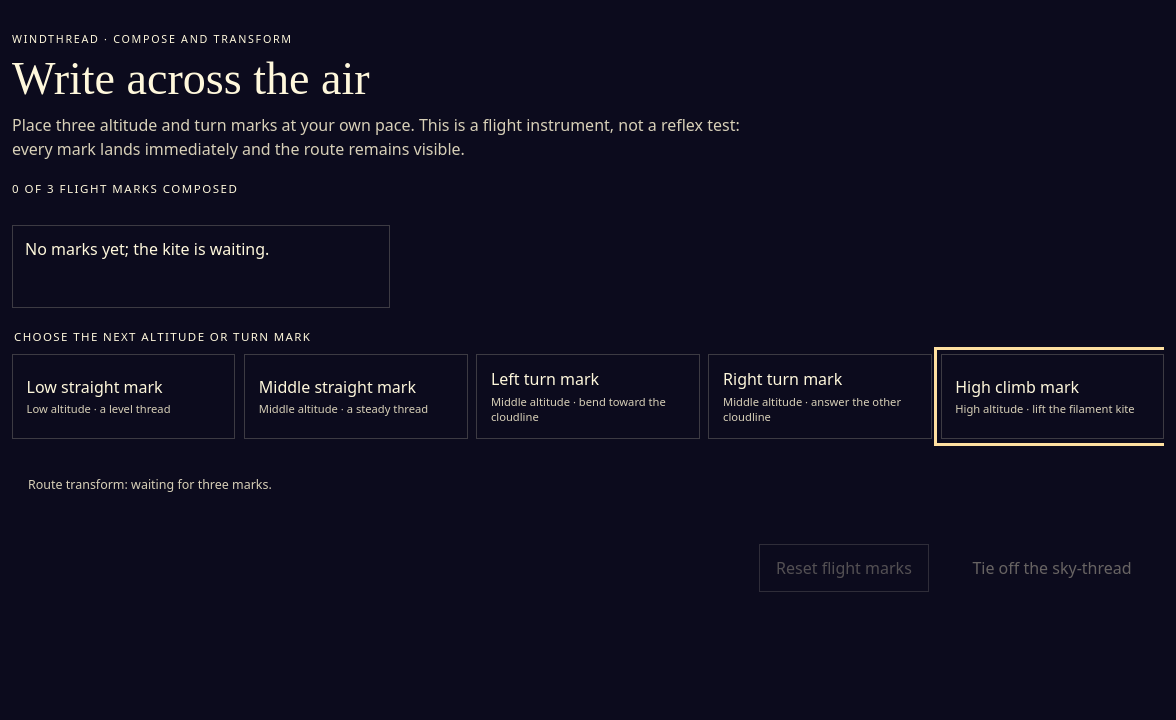
Test: WindthreadExperience › supports keyboard marks and resets the flight before a trace is tied off
This screenshot has width=1176, height=720.
Press Enter
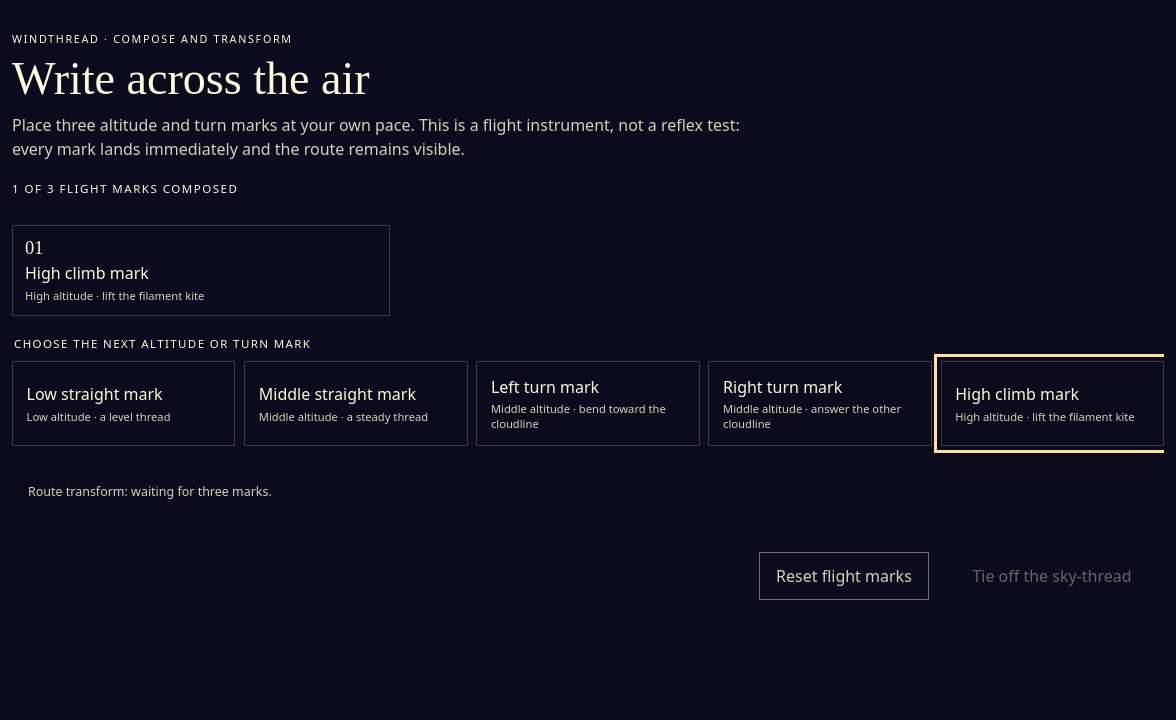
Click the button "High climb mark": (1052, 404) [941,361,1164,446]
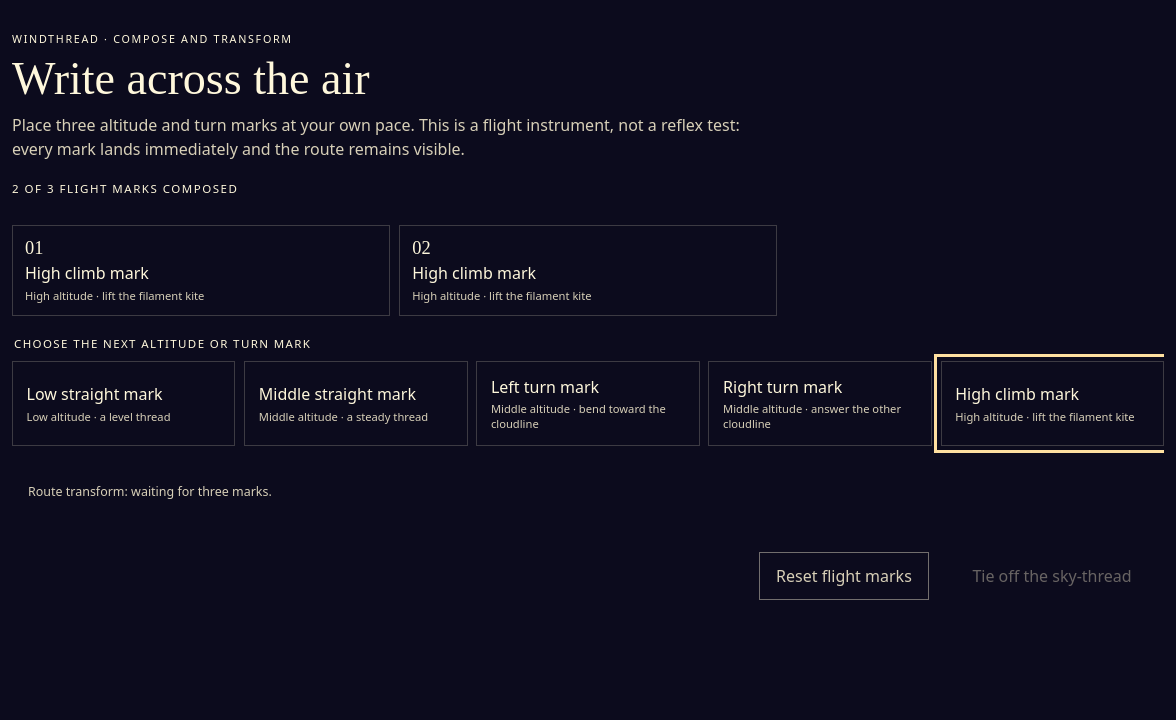
Result: the progress indicator "2 of 3 flight marks composed" is shown at [12,181,238,196]
Click the button "Reset flight marks": (844, 576) [759,552,929,600]
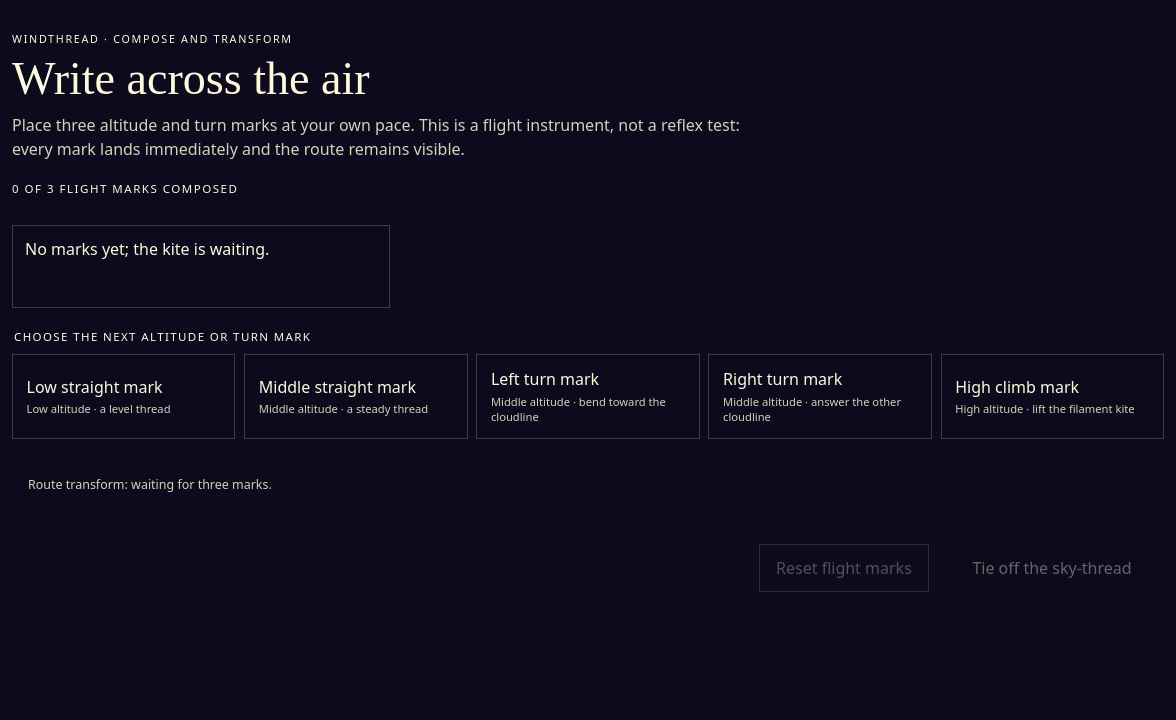
Expected: the text "Route transform: waiting for three marks." is shown, [28,476,272,493]
Result: the progress indicator "0 of 3 flight marks composed" is shown at [12,181,238,196]
